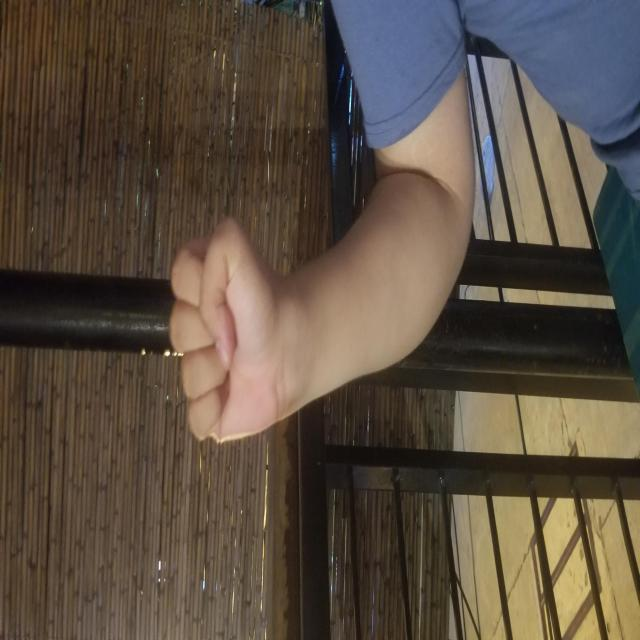S: (194, 168, 426, 276)
